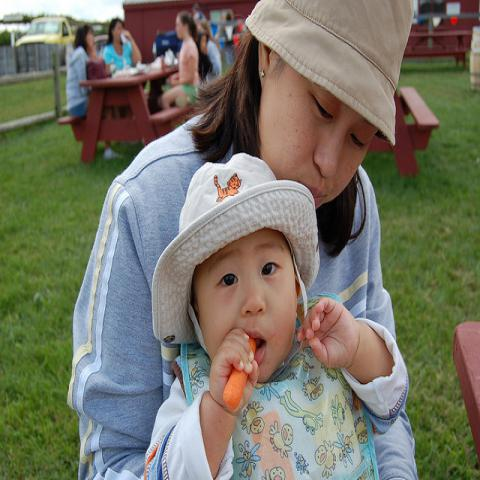car: (152, 30, 183, 60), (418, 1, 445, 14)
truck: (16, 14, 76, 60)
